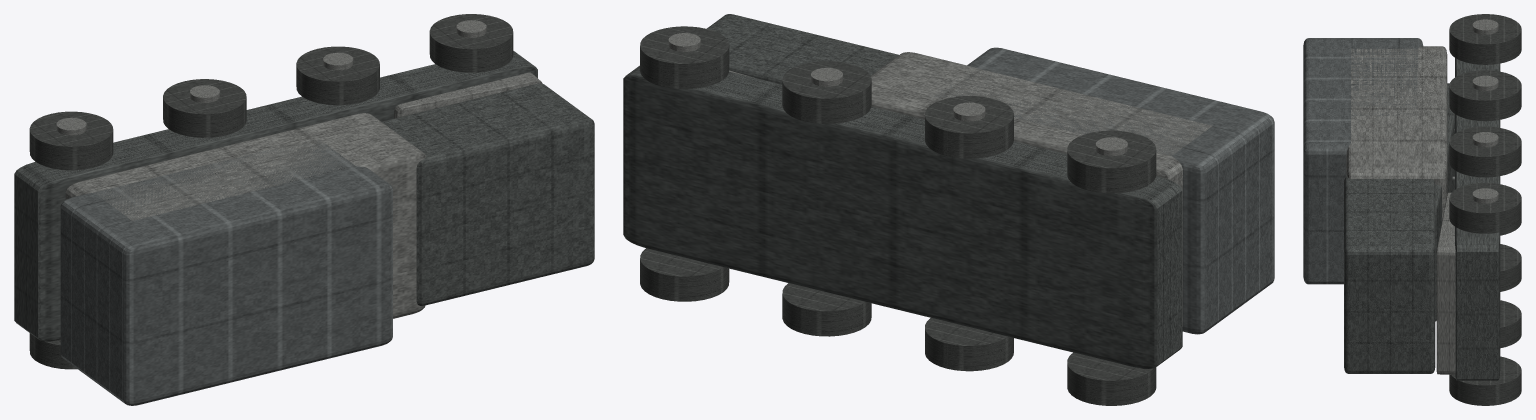
Rendered from c-u23-resource-truck-lod0.glb.
3 renders of one model, left to right at view 1: azimuth 30°, elevation 25°; view 2: azimuth 150°, elevation 25°; view 3: azimuth 270°, elevation 25°, orthographic. The views are drawn at different scales.
Visible parts, largest first — view 1: resource_bin, transport_cabin, transport_body, chassis_lower, chassis_wheel_1_3, chassis_wheel_1_0, chassis_wheel_1_2, chassis_wheel_1_1, chassis_nose, chassis_wheel_-1_0; view 2: chassis_lower, resource_bin, transport_body, transport_cabin, chassis_wheel_1_0, chassis_wheel_1_2, chassis_wheel_1_3, chassis_wheel_1_1, chassis_wheel_-1_0, chassis_wheel_-1_2, chassis_wheel_-1_3, chassis_wheel_-1_1; view 3: transport_cabin, resource_bin, transport_body, chassis_lower, chassis_nose, chassis_wheel_1_2, chassis_wheel_1_0, chassis_wheel_1_3, chassis_wheel_1_1, chassis_wheel_-1_3, upper_hull, chassis_wheel_-1_1 (+5 smaller).
Part boxes in pixels (bbox=[...]): resource_bin: bbox=[60, 138, 392, 405]; transport_cabin: bbox=[381, 83, 594, 305]; transport_body: bbox=[65, 113, 425, 318]; chassis_lower: bbox=[14, 51, 537, 341]; chassis_wheel_1_3: bbox=[429, 14, 513, 72]; chassis_wheel_1_0: bbox=[29, 111, 113, 170]; chassis_wheel_1_2: bbox=[296, 46, 379, 105]; chassis_wheel_1_1: bbox=[163, 79, 246, 137]; chassis_nose: bbox=[394, 72, 542, 118]; chassis_wheel_-1_0: bbox=[29, 333, 77, 369]; chassis_lower: bbox=[623, 65, 1182, 368]; resource_bin: bbox=[934, 47, 1274, 334]; transport_body: bbox=[870, 52, 1211, 326]; transport_cabin: bbox=[707, 14, 898, 84]; chassis_wheel_1_0: bbox=[1067, 130, 1156, 193]; chassis_wheel_1_2: bbox=[782, 61, 871, 123]; chassis_wheel_1_3: bbox=[640, 26, 729, 89]; chassis_wheel_1_1: bbox=[925, 96, 1013, 158]; chassis_wheel_-1_0: bbox=[1067, 352, 1156, 405]; chassis_wheel_-1_2: bbox=[782, 283, 871, 336]; chassis_wheel_-1_3: bbox=[640, 248, 729, 301]; chassis_wheel_-1_1: bbox=[925, 318, 1013, 371]; transport_cabin: bbox=[1344, 176, 1435, 373]; resource_bin: bbox=[1303, 38, 1423, 284]; transport_body: bbox=[1346, 46, 1447, 221]; chassis_lower: bbox=[1455, 58, 1500, 380]; chassis_nose: bbox=[1436, 192, 1455, 374]; chassis_wheel_1_2: bbox=[1449, 126, 1521, 177]; chassis_wheel_1_0: bbox=[1449, 14, 1521, 64]; chassis_wheel_1_3: bbox=[1449, 183, 1521, 233]; chassis_wheel_1_1: bbox=[1449, 70, 1521, 121]; chassis_wheel_-1_3: bbox=[1449, 356, 1521, 405]; upper_hull: bbox=[1435, 83, 1454, 321]; chassis_wheel_-1_1: bbox=[1500, 244, 1521, 291].
Size of what is drawn, in the model's own units: 7.18 by 3.19 by 3.14.
Materials: 6 (6 with a texture image).
